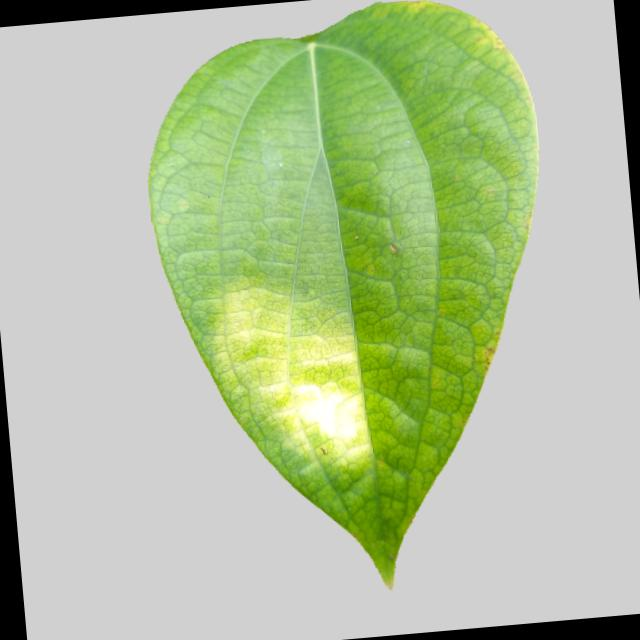healthy: (131, 0, 580, 611)
